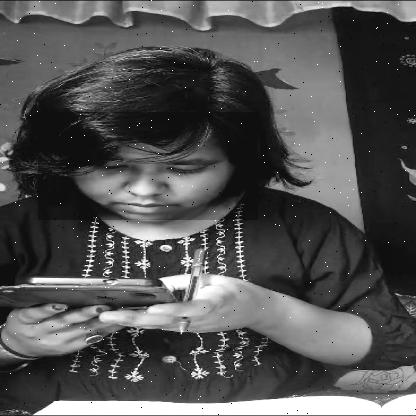Normal: (38, 112, 258, 221)
